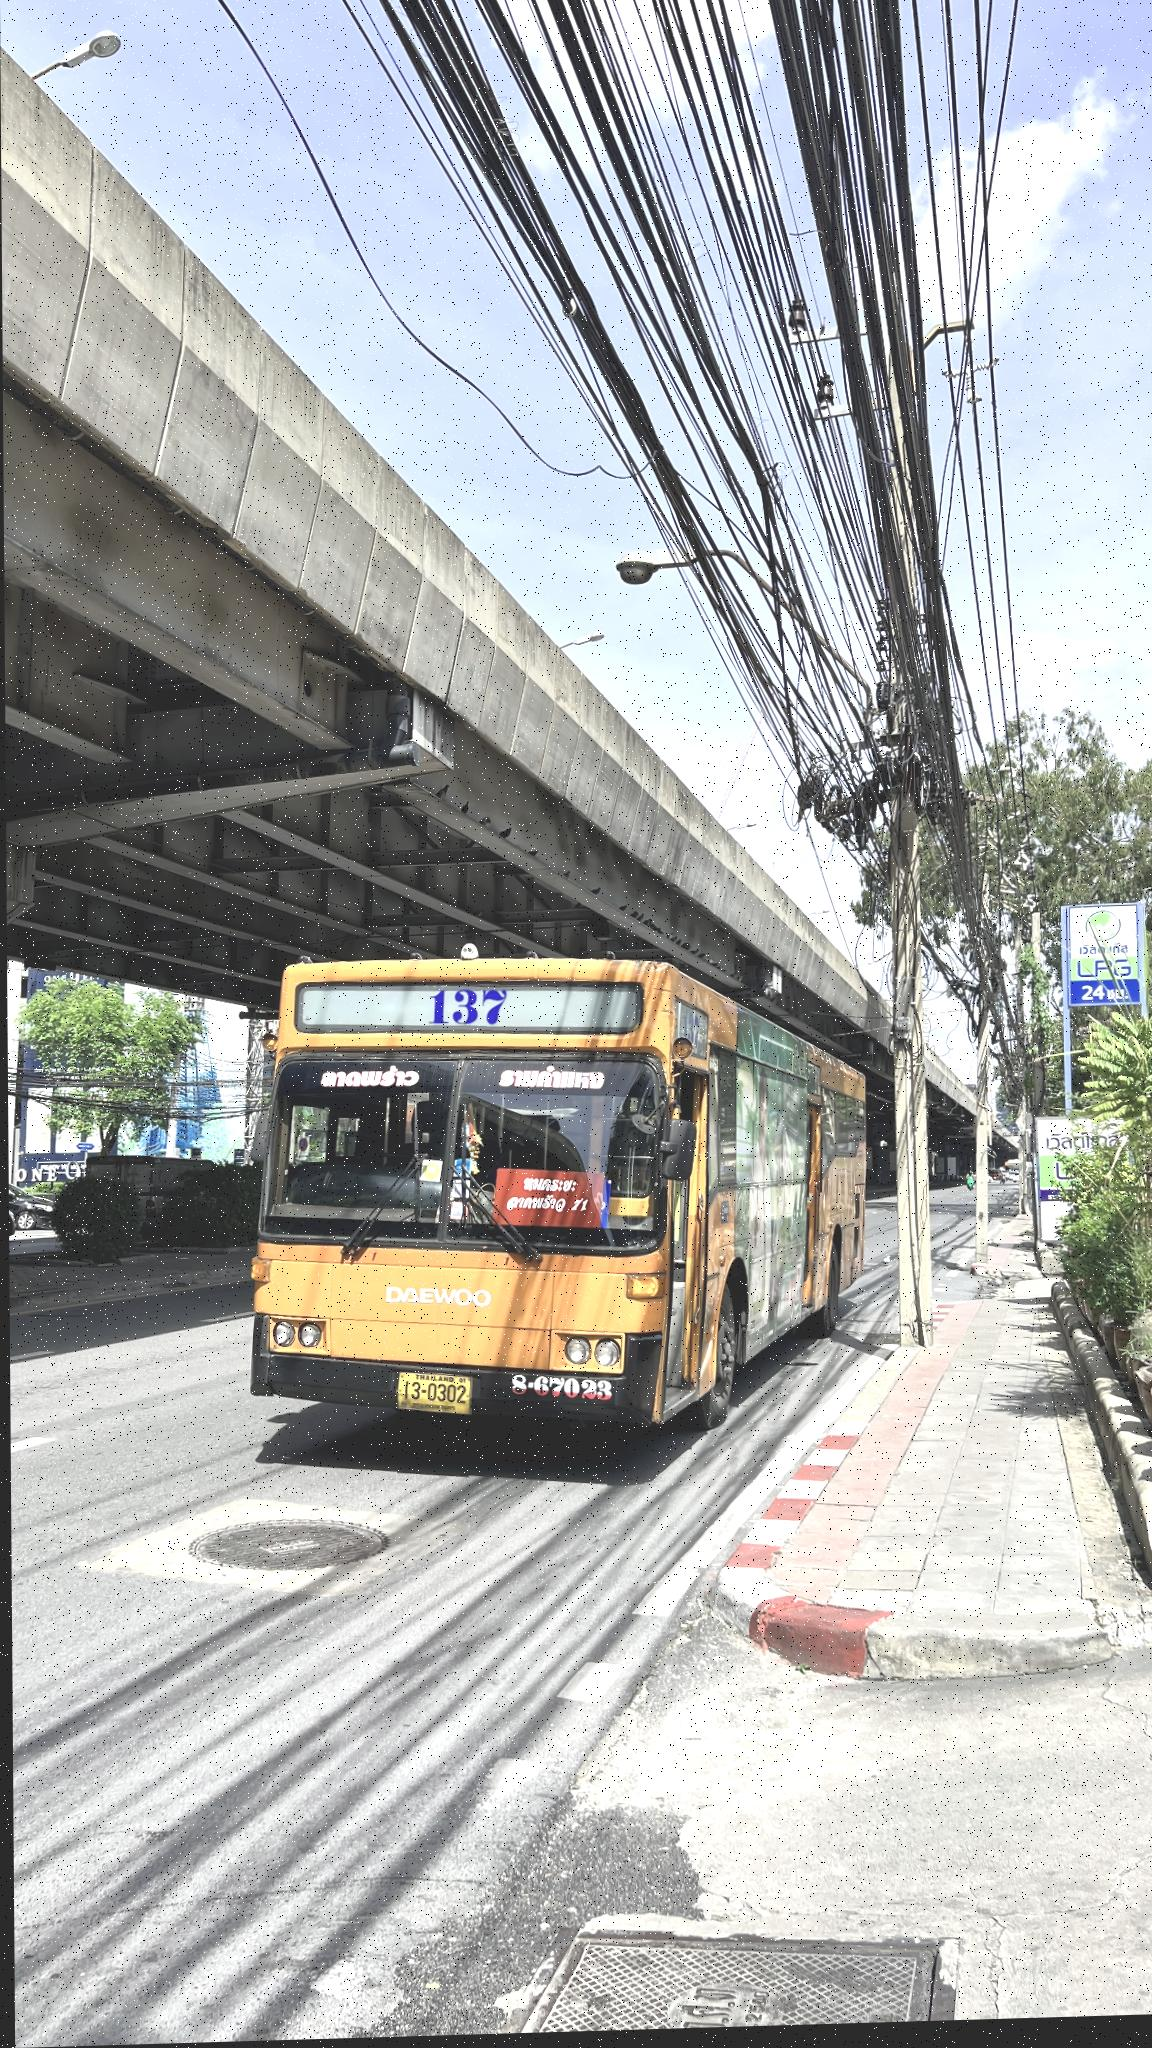BMTA-bus: (248, 961, 865, 1443)
Bus Line Number: (414, 983, 518, 1038)
Bus Side Number: (508, 1369, 619, 1411)
Destination Sign: (495, 1162, 603, 1238)
